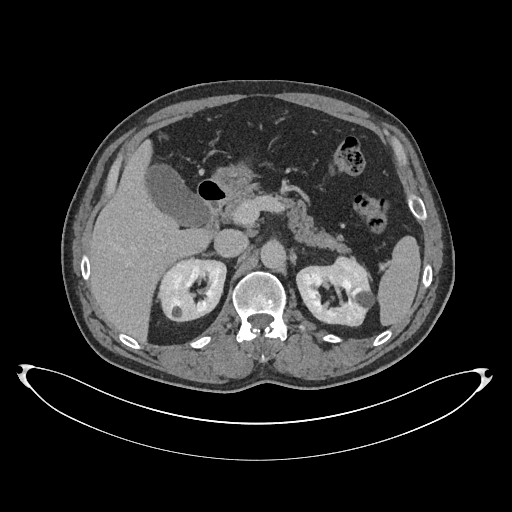Lesion: (353, 287, 376, 310)
